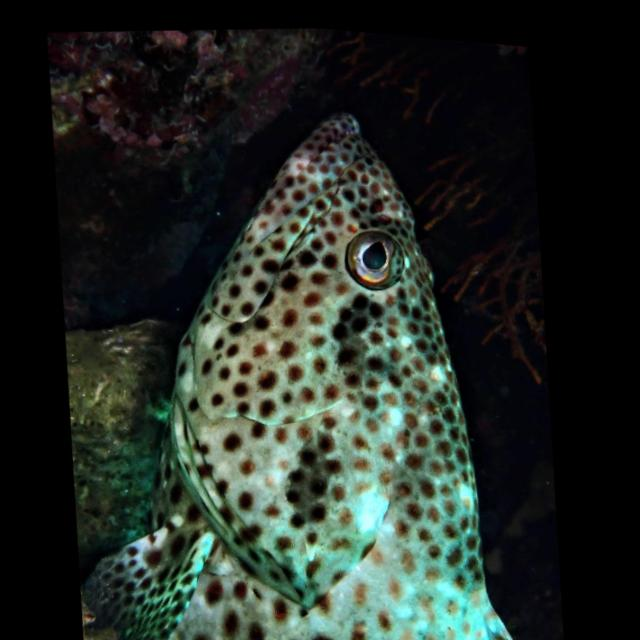Groupers: (28, 65, 553, 640)
